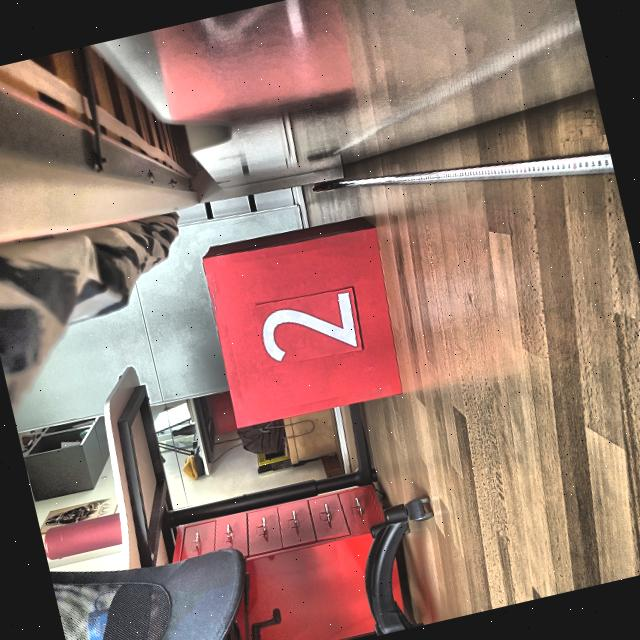red box: (202, 212, 402, 428)
two: (256, 286, 366, 369)
